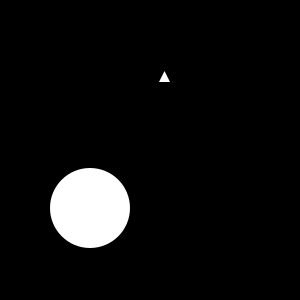rectangle: (50, 168, 130, 248)
triangle: (159, 71, 170, 82)
